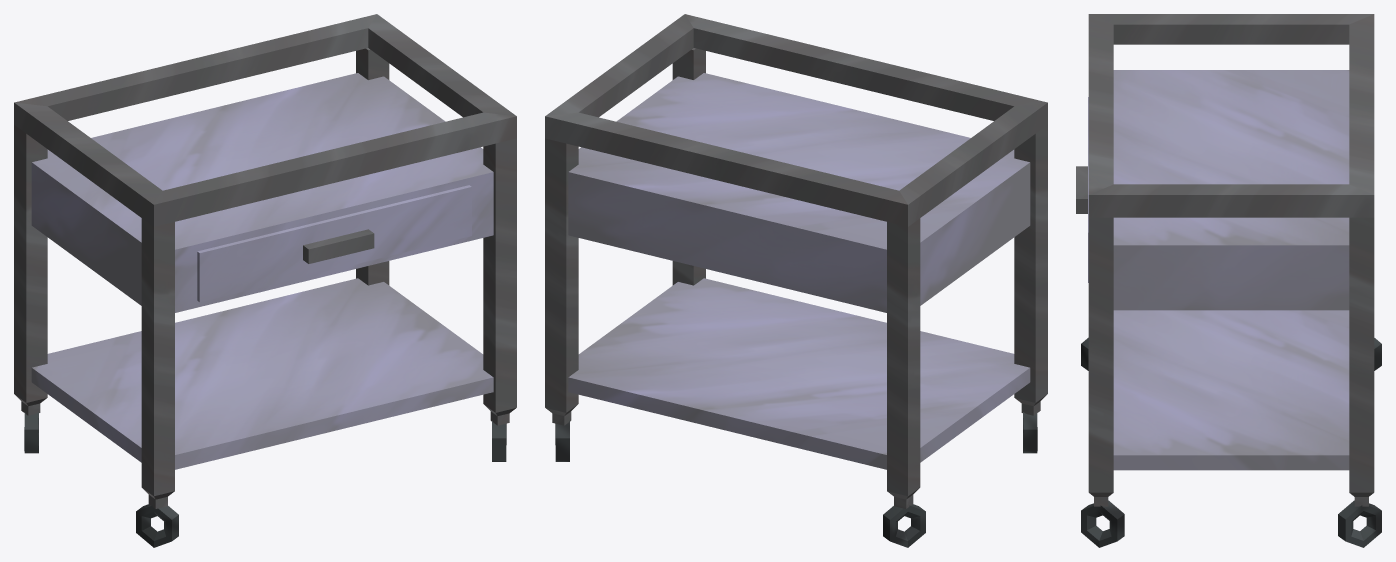
The model's file is Prop_Cart_Wheels.glb.
The picture shows the model from 3 angles, left to right: view 1: azimuth 30°, elevation 25°; view 2: azimuth 150°, elevation 25°; view 3: azimuth 270°, elevation 25°; orthographic projection. The views are drawn at different scales.
Visible parts, largest first — view 1: Prop_Cart_Wheels; view 2: Prop_Cart_Wheels; view 3: Prop_Cart_Wheels.
Part boxes in pixels (x1=…): Prop_Cart_Wheels: x1=14, y1=14, x2=516, y2=547; Prop_Cart_Wheels: x1=545, y1=14, x2=1047, y2=547; Prop_Cart_Wheels: x1=1076, y1=14, x2=1381, y2=547.
Size of the model in its own units: 1.22 by 1.1 by 0.8567.
1 material, 1 textured.
